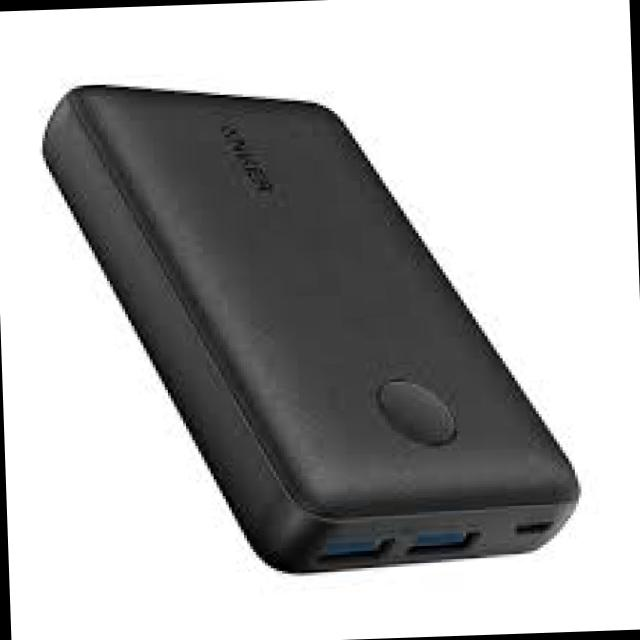portable-charger: (31, 55, 584, 587)
